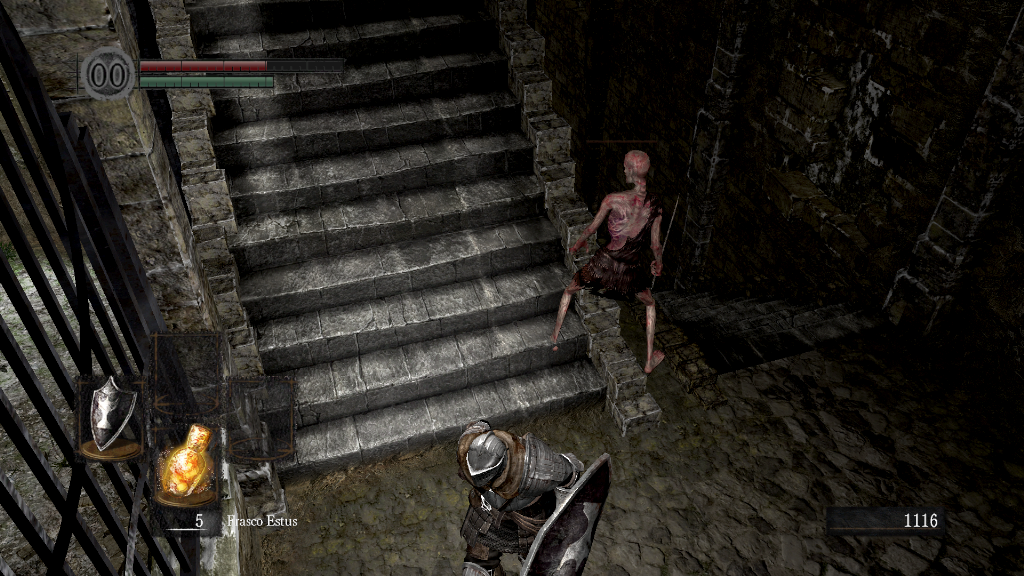health: (138, 58, 343, 71)
hollow: (547, 147, 677, 374)
humanity: (80, 45, 136, 102)
player: (455, 420, 615, 576)
souls: (825, 506, 945, 536)
stamina: (138, 74, 274, 88)
